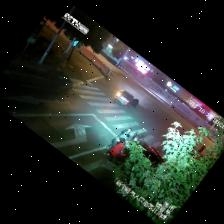person: (104, 142, 125, 162)
